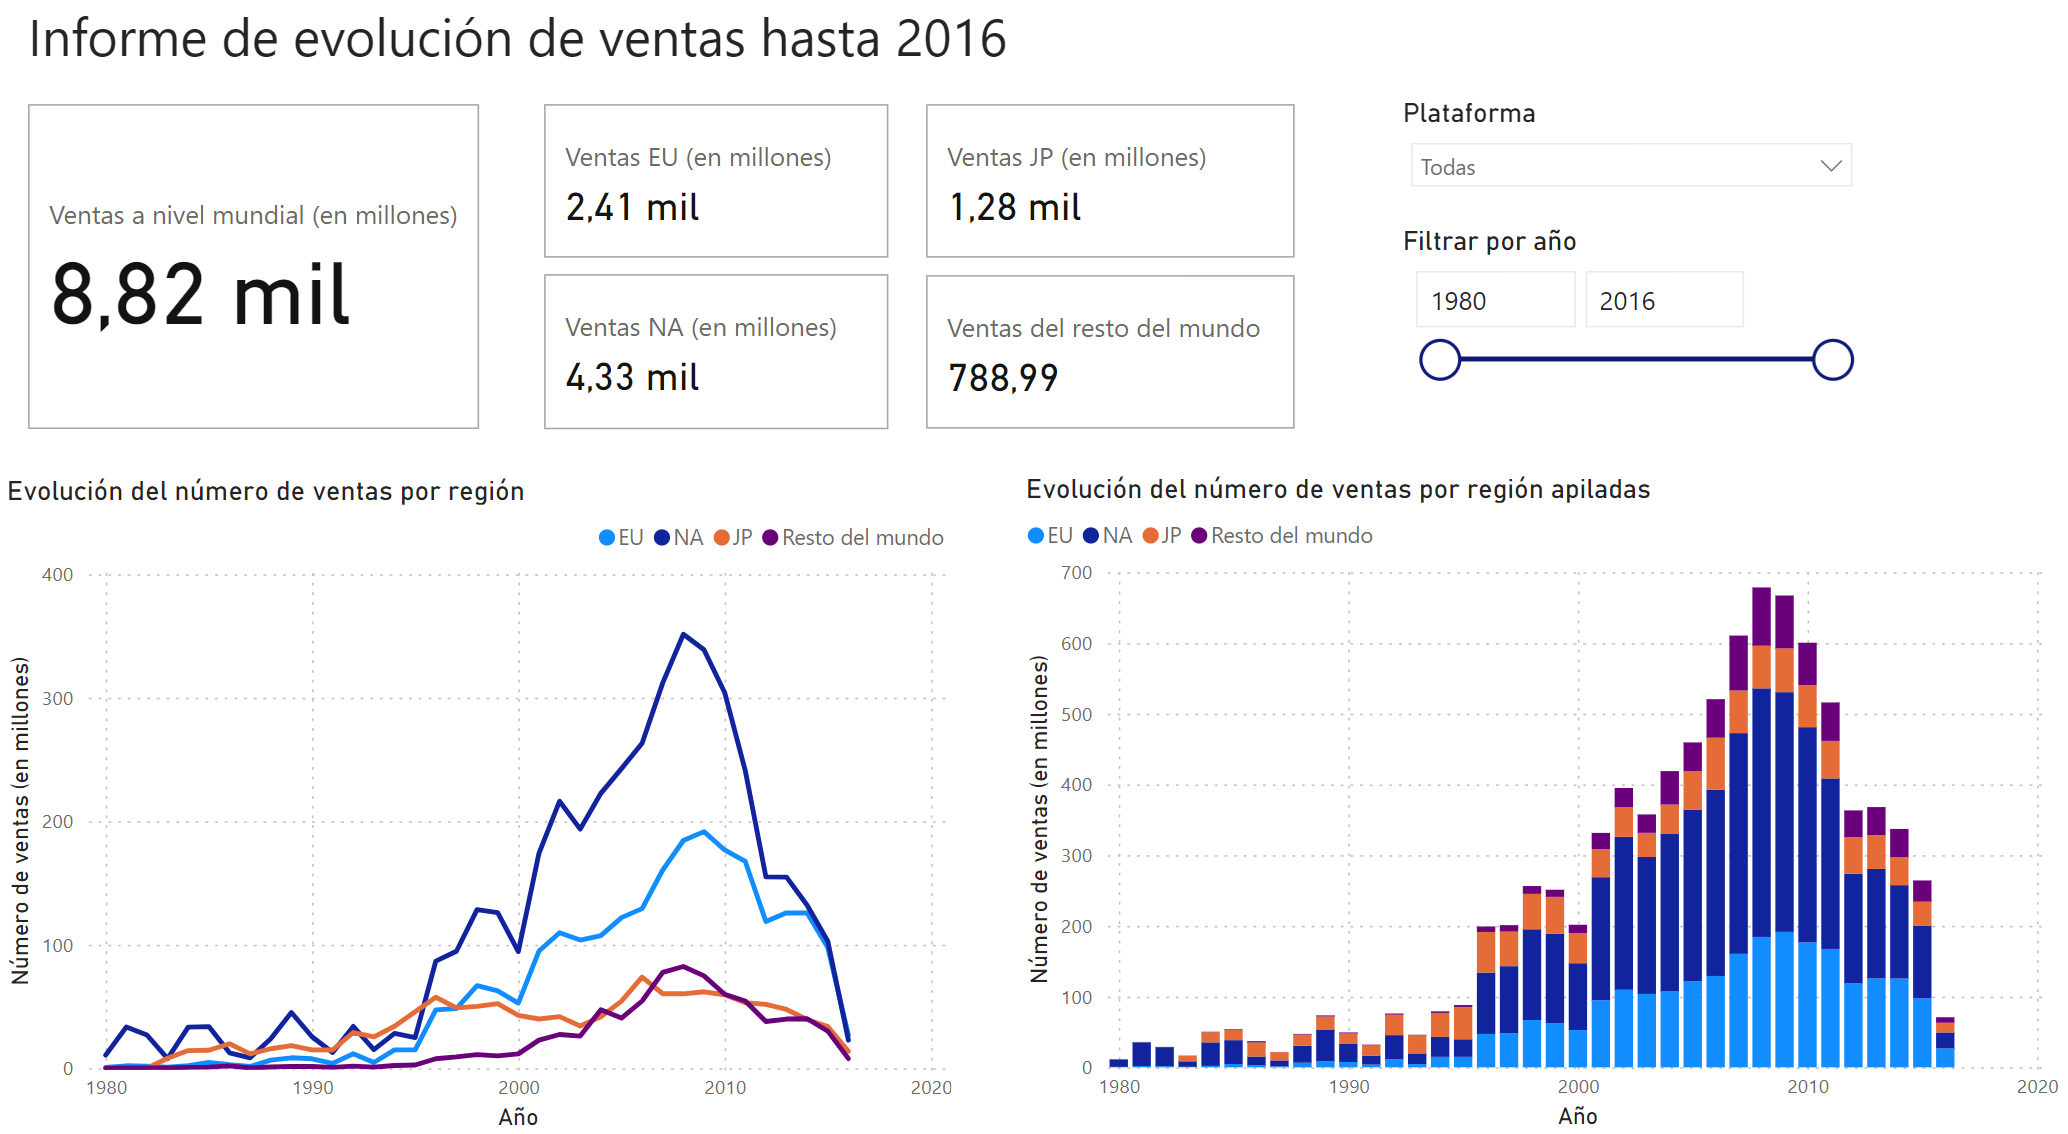

The dashboard page shown, as its layout file describes it:
{"tool":"powerbi","page":{"name":"Evolución de ventas","canvas":[1280,720],"ordinal":1},"visuals":[{"type":"textbox","box":[13.1,10.2,637.8,64.9],"z":0},{"type":"lineChart","title":"Evolución del número de ventas por región","fields":{"Y":["Sum(videogame_sales.EU_Sales)","Sum(videogame_sales.NA_Sales)","Sum(videogame_sales.JP_Sales)","Sum(videogame_sales.Other_Sales)"],"Category":["videogame_sales.Year"]},"box":[0,309.1,594.5,410.9],"z":1000},{"type":"slicer","title":"Filtrar por año","fields":{"Values":["videogame_sales.Year"]},"box":[863.4,154.9,292.6,106.1],"z":2000},{"type":"cardVisual","fields":{"Data":["Sum(videogame_sales.Global_Sales)"]},"box":[13.1,75.2,289.7,211.6],"z":3000},{"type":"cardVisual","fields":{"Data":["Sum(videogame_sales.NA_Sales)"]},"box":[332,180.7,223,106.1],"z":4000},{"type":"cardVisual","fields":{"Data":["Sum(videogame_sales.JP_Sales)"]},"box":[568.6,75.3,238.8,105.4],"z":5000},{"type":"cardVisual","fields":{"Data":["Sum(videogame_sales.EU_Sales)"]},"box":[332,75.3,223,105.4],"z":6000},{"type":"columnChart","title":"Evolución del número de ventas por región apiladas","fields":{"Category":["videogame_sales.Year"],"Y":["Sum(videogame_sales.EU_Sales)","Sum(videogame_sales.NA_Sales)","Sum(videogame_sales.JP_Sales)","Sum(videogame_sales.Other_Sales)"]},"box":[630.3,308.3,649.7,411.6],"z":7000},{"type":"cardVisual","fields":{"Data":["Sum(videogame_sales.Other_Sales)"]},"box":[568.6,181.4,238.8,105.4],"z":8000},{"type":"slicer","title":"Plataforma","fields":{"Values":["videogame_sales.Platform"]},"box":[863.4,75.3,292.6,74.6],"z":9000}]}

Visuals, with their boxes in screenshot pixels (x1, y1, x2, y2), scaled from the page's 1280x720 canvas onto the 2068x1134 screenshot:
textbox: 21,16,1052,118
"Evolución del número de ventas por región" lineChart: 0,487,960,1133
"Filtrar por año" slicer: 1395,244,1868,411
cardVisual - Sum(videogame_sales.Global_Sales): 21,118,489,452
cardVisual - Sum(videogame_sales.NA_Sales): 536,285,897,452
cardVisual - Sum(videogame_sales.JP_Sales): 919,119,1304,285
cardVisual - Sum(videogame_sales.EU_Sales): 536,119,897,285
"Evolución del número de ventas por región apiladas" columnChart: 1018,486,2067,1133
cardVisual - Sum(videogame_sales.Other_Sales): 919,286,1304,452
"Plataforma" slicer: 1395,119,1868,236
